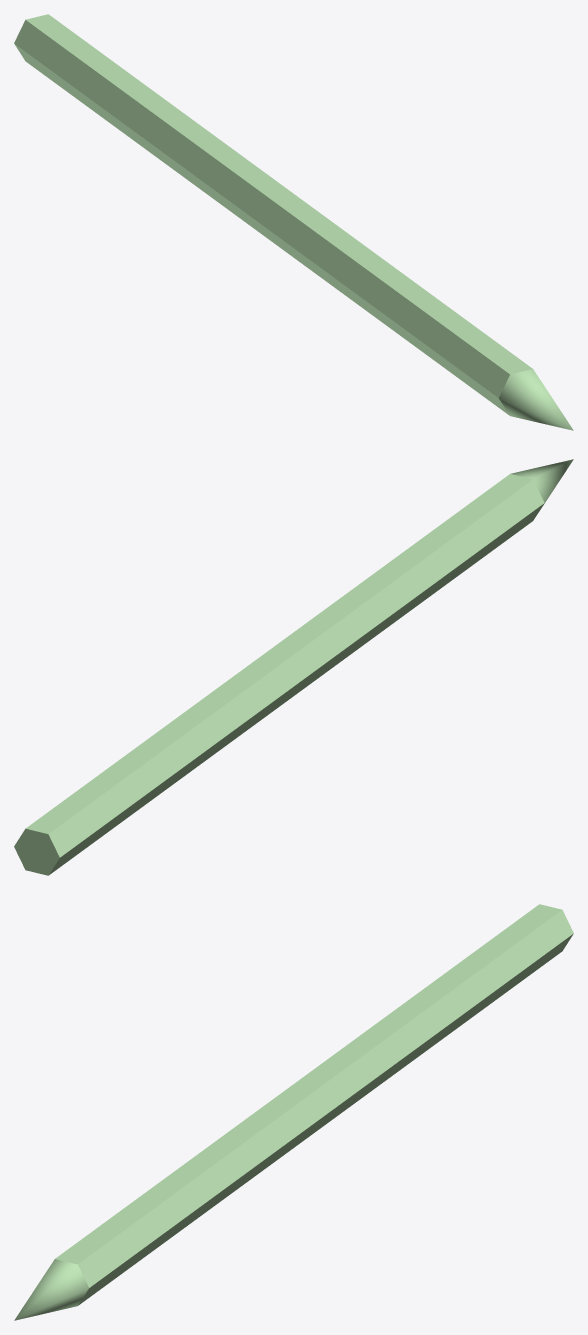
The model's file is pencil.fbx.
3 views of the same model, one above another, from view 1: azimuth 30°, elevation 25°; view 2: azimuth 150°, elevation 25°; view 3: azimuth 330°, elevation 25° (orthographic).
Parts seen in each view (by area): view 1: pencil; view 2: pencil; view 3: pencil.
Boxes of the visible parts, x1,y1,x2,y2 form: pencil: (14,14,573,430); pencil: (14,459,573,875); pencil: (14,904,573,1320).
Bounding box in the file's own units: 30.34 × 26.28 × 615.
